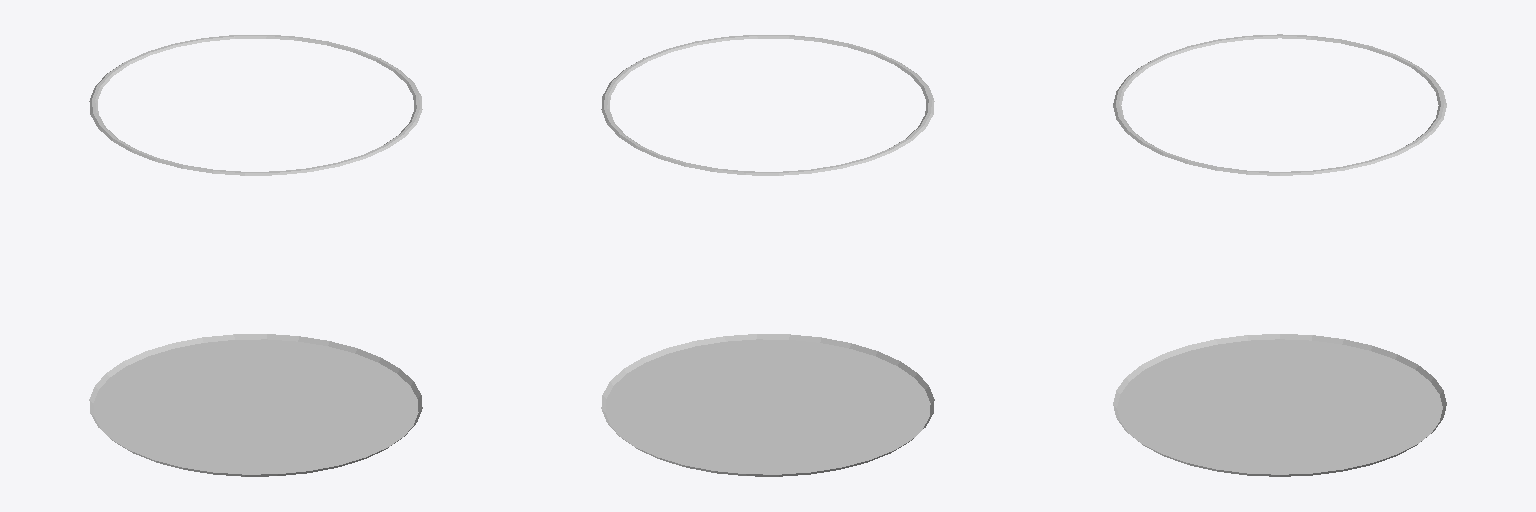
The model's file is rim.obj.
3 renders of one model, left to right at view 1: azimuth 30°, elevation 25°; view 2: azimuth 150°, elevation 25°; view 3: azimuth 270°, elevation 25°, orthographic.
Visible parts, largest first — view 1: Cylinder; view 2: Cylinder; view 3: Cylinder.
Boxes of the visible parts, <box> form: Cylinder: <box>89,35,422,476</box>; Cylinder: <box>601,35,934,476</box>; Cylinder: <box>1113,34,1446,476</box>.
Size of the model in its own units: 6 by 6.04 by 6.